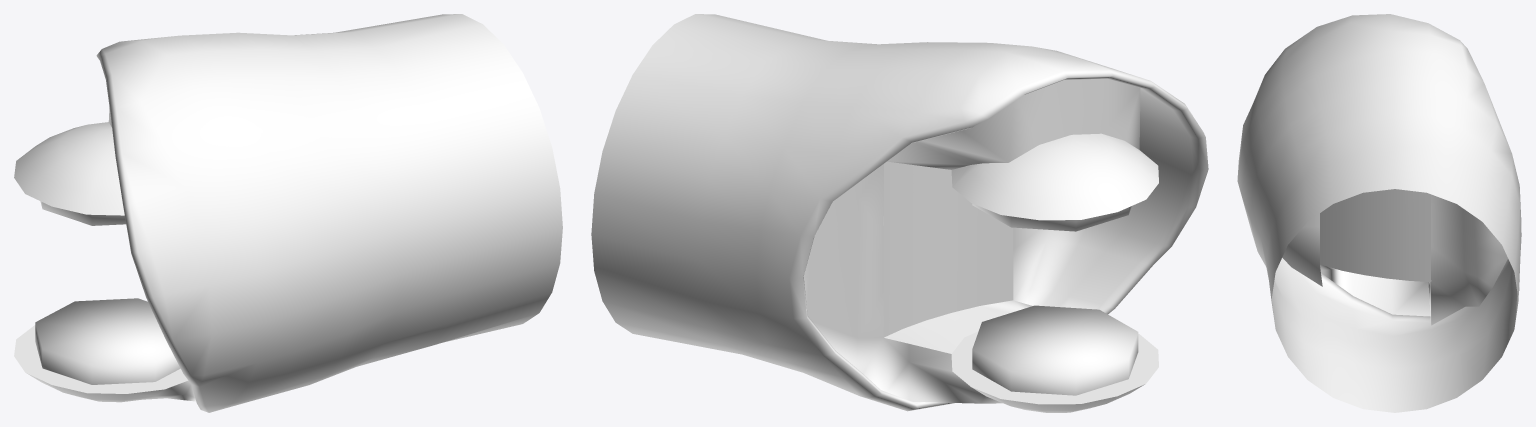
Rendered from RElbowRoll.dae.
3 views of the same model, side by side, from view 1: azimuth 30°, elevation 25°; view 2: azimuth 150°, elevation 25°; view 3: azimuth 270°, elevation 25° (orthographic). The views are drawn at different scales.
Parts seen in each view (by area): view 1: RElbowRoll; view 2: RElbowRoll; view 3: RElbowRoll.
Boxes of the visible parts, x1,y1,x2,y2 form: RElbowRoll: (14,14,562,412); RElbowRoll: (591,14,1208,412); RElbowRoll: (1237,14,1521,412).
Size of the model in its own units: 0.7006 by 0.4873 by 0.5139.
1 material, 1 textured.
